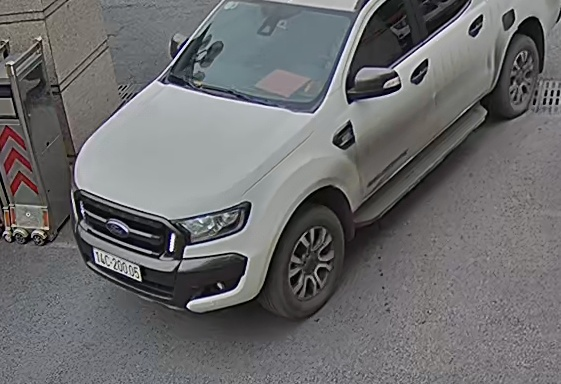vehicle plate: (90, 242, 143, 284)
